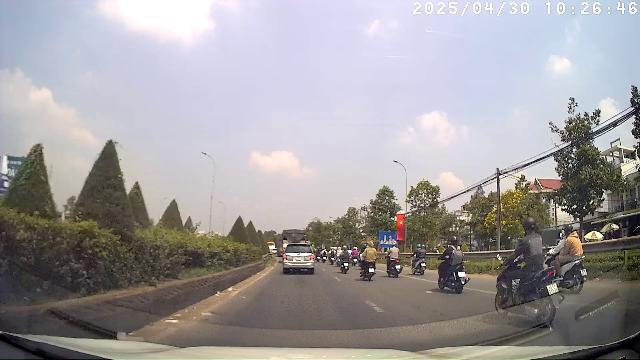421-ket-thuc-khu-dong-dan-cu: (379, 231, 398, 246)
